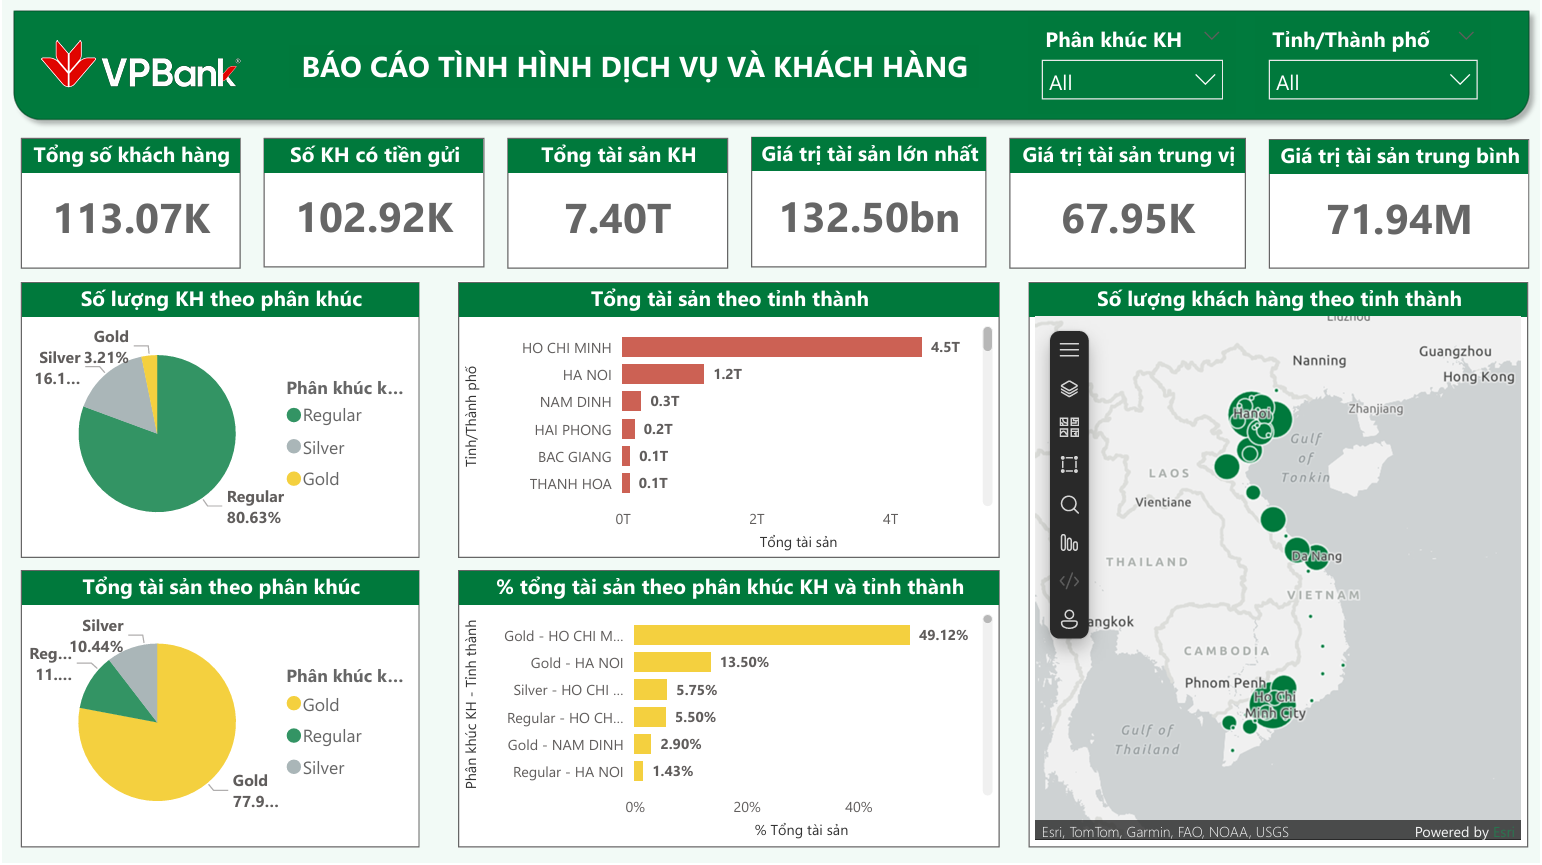

Layout of this report page (visuals, bound fields, positions):
{"tool":"powerbi","page":{"name":"Tình hình khách hàng","canvas":[1280,720],"ordinal":0},"visuals":[{"type":"shape","box":[0,0,1279.5,109],"z":0},{"type":"image","box":[31.8,24.2,166.6,59.1],"z":1000},{"type":"slicer","fields":{"Values":["cust.Phân khúc khách hàng"]},"box":[854,13.6,172.6,81.8],"z":2000},{"type":"slicer","fields":{"Values":["cust.Tỉnh/Thành phố"]},"box":[1043.3,13.6,195.3,81.8],"z":3000},{"type":"textbox","title":"BÁO CÁO TÌNH HÌNH DỊCH VỤ VÀ KHÁCH HÀNG","box":[239.2,37.9,573.9,34.8],"z":4000},{"type":"card","title":"Tổng số khách hàng","fields":{"Values":["Count(aum.ID khách hàng)"]},"box":[15.1,114.6,183.2,109],"z":5000},{"type":"card","title":"Số KH có tiền gửi","fields":{"Values":["Count(aum.ID khách hàng)"]},"box":[217.4,114.9,183.8,108.1],"z":6000},{"type":"card","title":"Tổng tài sản KH","fields":{"Values":["Sum(aum.Tổng tài sản)"]},"box":[420.3,114.6,183.2,109],"z":7000},{"type":"card","title":"Giá trị tài sản lớn nhất","fields":{"Values":["Max(aum.Tổng tài sản)"]},"box":[622.6,113.6,196.8,109],"z":8000},{"type":"card","title":"Giá trị tài sản trung bình","fields":{"Values":["Avg(aum.Tổng tài sản)"]},"box":[1054.3,116.3,216.3,108.1],"z":9000},{"type":"card","title":"Giá trị tài sản trung vị","fields":{"Values":["Median(aum.Tổng tài sản)"]},"box":[838.4,115.1,196.8,109],"z":10000},{"type":"pieChart","title":"Số lượng KH theo phân khúc","fields":{"Category":["cust.Phân khúc khách hàng"],"Y":["Count(cust.ID khách hàng)"]},"box":[15.1,234.7,331.6,230.2],"z":11000},{"type":"pieChart","title":"Tổng tài sản theo phân khúc","fields":{"Category":["cust.Phân khúc khách hàng"],"Y":["Sum(aum.Tổng tài sản)"]},"box":[15.1,475.5,331.6,230.2],"z":12000},{"type":"clusteredBarChart","title":"Tổng tài sản theo tỉnh thành","fields":{"Category":["cust.Tỉnh/Thành phố"],"Y":["Sum(aum.Tổng tài sản)"]},"box":[378.6,234.7,451.2,230.2],"z":13000},{"type":"esriVisual","title":"Số lượng khách hàng theo tỉnh thành","fields":{"Location":["cust.Tỉnh/Thành phố"],"Size":["Count(cust.ID khách hàng)"]},"box":[854,234.7,416.4,470.9],"z":14000},{"type":"clusteredBarChart","title":"% tổng tài sản theo phân khúc KH và tỉnh thành","fields":{"Category":["cust.Phân khúc KH - Tỉnh thành"],"Y":["Sum(aum.Tổng tài sản)"]},"box":[378.6,475.5,451.2,230.2],"z":15000}]}

Visuals, with their boxes in screenshot pixels (x1, y1, x2, y2), scaled from the page's 1280x720 canvas onto the 1542x865 screenshot:
shape: [0,0,1541,131]
image: [38,29,239,100]
slicer - cust.Phân khúc khách hàng: [1029,16,1237,115]
slicer - cust.Tỉnh/Thành phố: [1257,16,1492,115]
"BÁO CÁO TÌNH HÌNH DỊCH VỤ VÀ KHÁCH HÀNG" textbox: [288,46,980,87]
"Tổng số khách hàng" card: [18,138,239,269]
"Số KH có tiền gửi" card: [262,138,483,268]
"Tổng tài sản KH" card: [506,138,727,269]
"Giá trị tài sản lớn nhất" card: [750,136,987,267]
"Giá trị tài sản trung bình" card: [1270,140,1531,270]
"Giá trị tài sản trung vị" card: [1010,138,1247,269]
"Số lượng KH theo phân khúc" pieChart: [18,282,418,559]
"Tổng tài sản theo phân khúc" pieChart: [18,571,418,848]
"Tổng tài sản theo tỉnh thành" clusteredBarChart: [456,282,1000,559]
"Số lượng khách hàng theo tỉnh thành" esriVisual: [1029,282,1530,848]
"% tổng tài sản theo phân khúc KH và tỉnh thành" clusteredBarChart: [456,571,1000,848]
